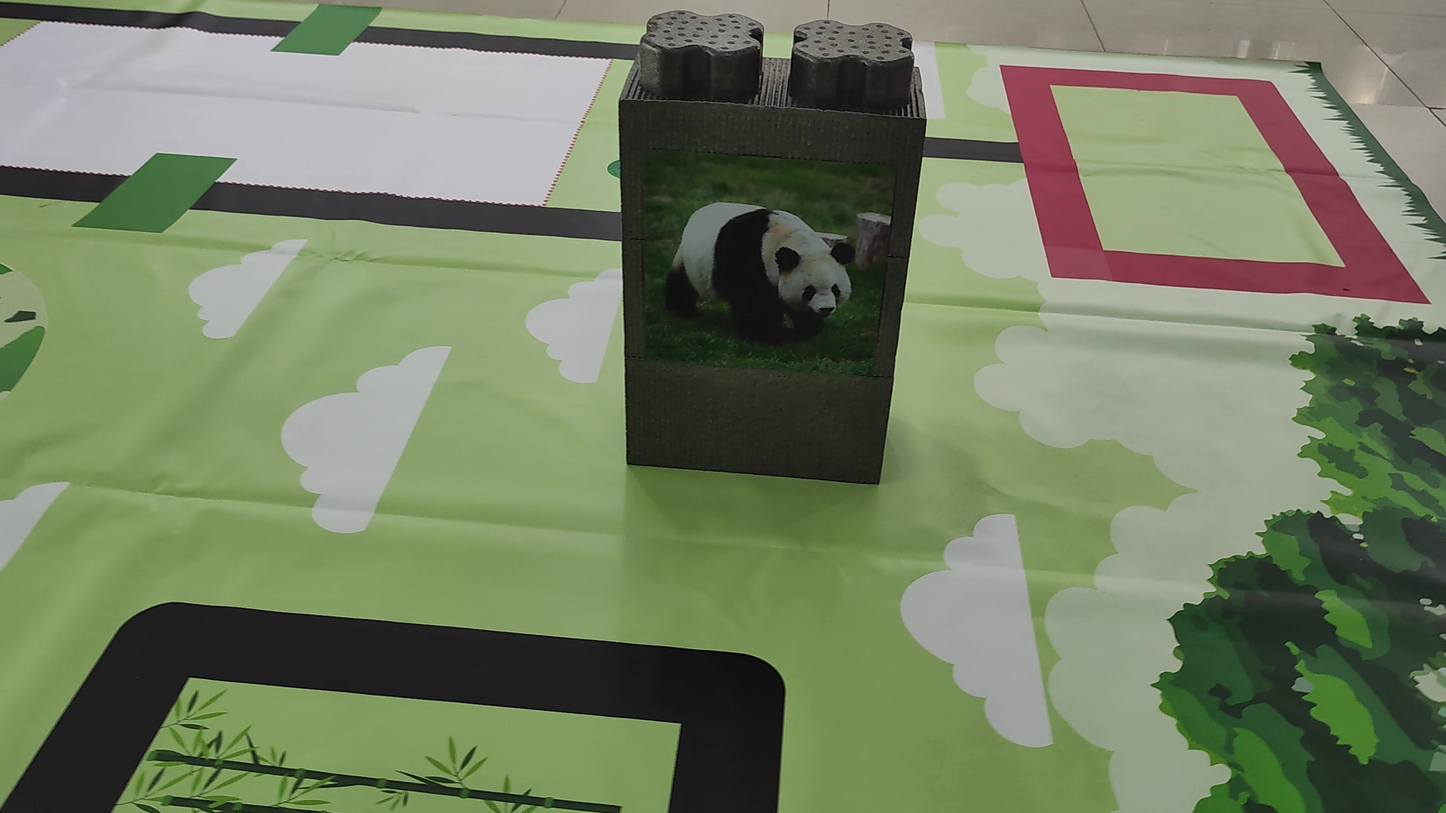panda: (641, 189, 875, 377)
